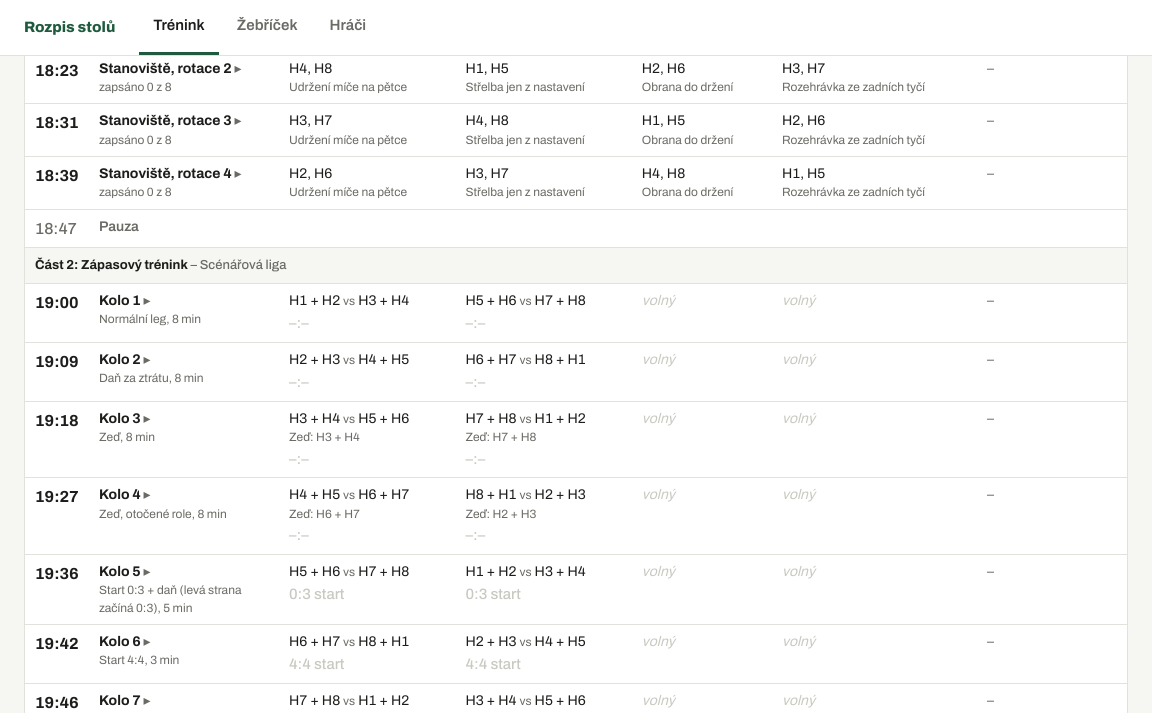
Test case: tabulka tréninku › po změně typu tréninku je zase rozbalený výchozí blok
(page scrolled)
Click the button "Kolo 2" at coordinates (125, 360), box [99,350,151,370]
(page scrolled)
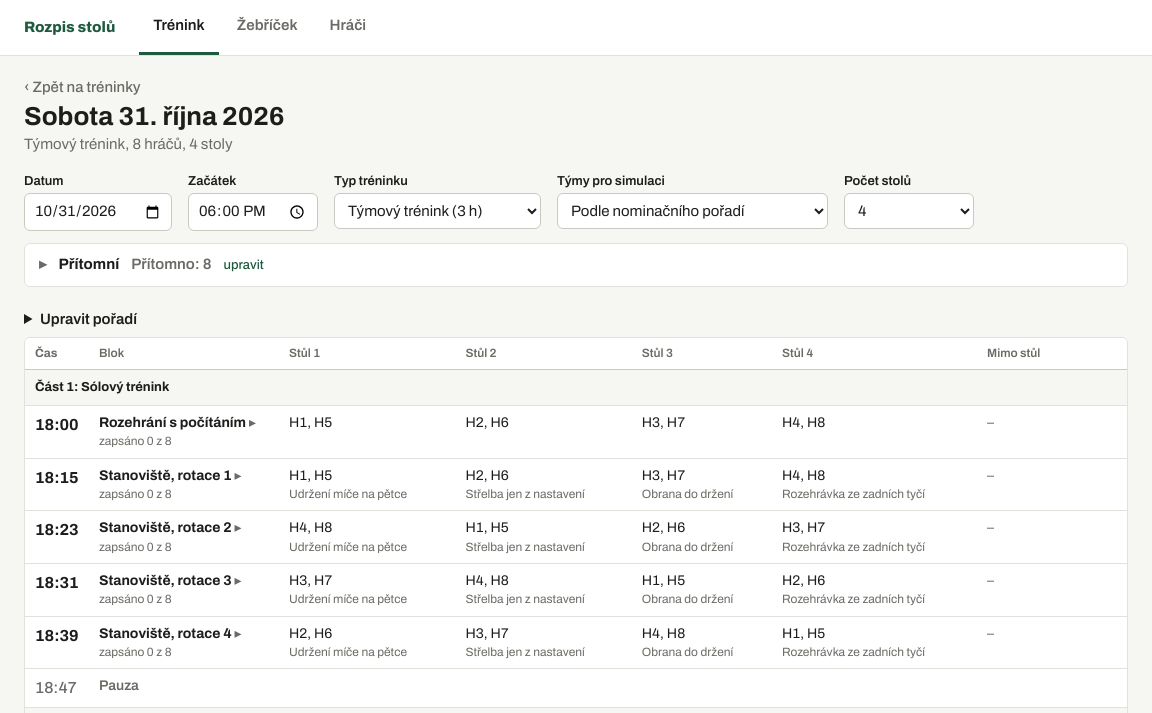
Select "Trénink jedniček (80 min)" in the dropdown labelled "Typ tréninku" at coordinates (438, 212), box [334,194,541,230]
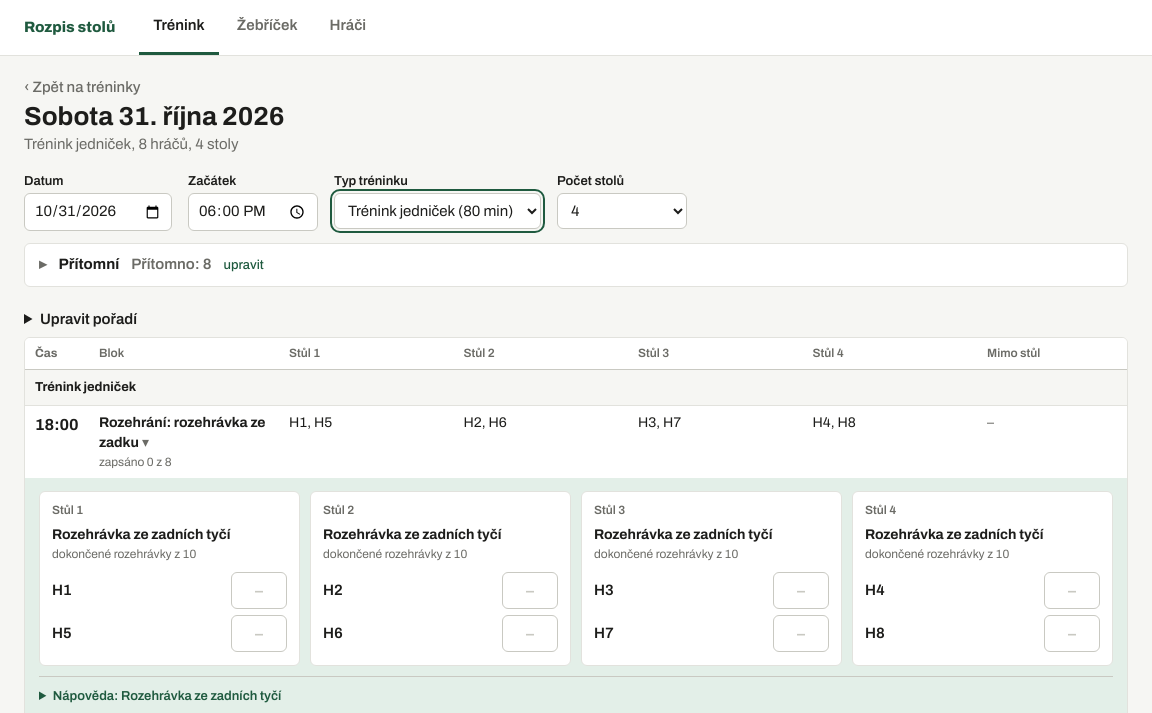
Result: the number field named "Rozehrání: rozehrávka ze zadku, stůl 1: H1" is shown at [231,572,287,609]
